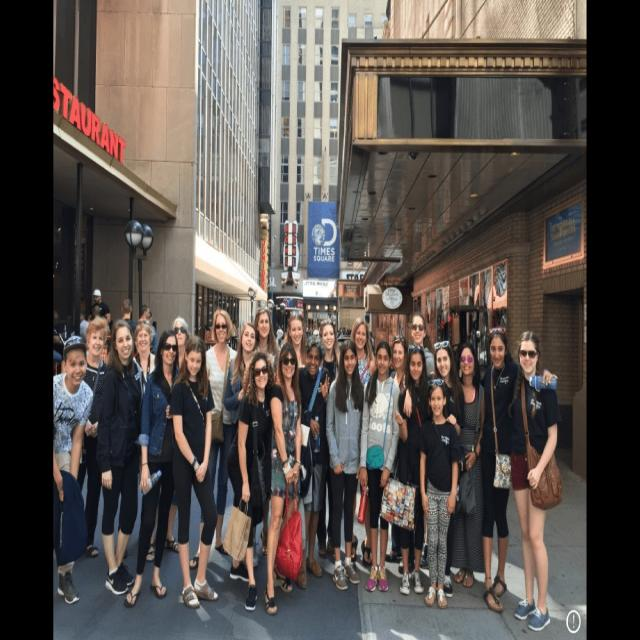body: (478, 324, 559, 614), (508, 328, 565, 635), (124, 328, 182, 609), (166, 331, 222, 611), (96, 314, 146, 598), (226, 348, 276, 616), (189, 309, 238, 572), (286, 331, 334, 591), (262, 339, 306, 617), (52, 333, 95, 608), (356, 340, 402, 594), (146, 316, 192, 562), (325, 337, 366, 593), (417, 378, 462, 609), (391, 343, 431, 597), (451, 341, 487, 590), (76, 314, 112, 560), (383, 332, 416, 575), (348, 316, 378, 570), (315, 317, 342, 561), (402, 338, 467, 438), (132, 322, 157, 565), (222, 322, 258, 444), (274, 314, 376, 352), (254, 307, 282, 384), (408, 310, 436, 380), (283, 312, 308, 369), (86, 286, 112, 326), (50, 306, 64, 375), (78, 305, 102, 337), (148, 296, 160, 357), (120, 296, 136, 333), (229, 319, 241, 350), (135, 303, 150, 325), (202, 321, 213, 349)
